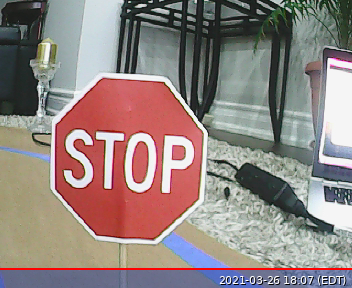Stop Sign: (49, 72, 208, 244)
